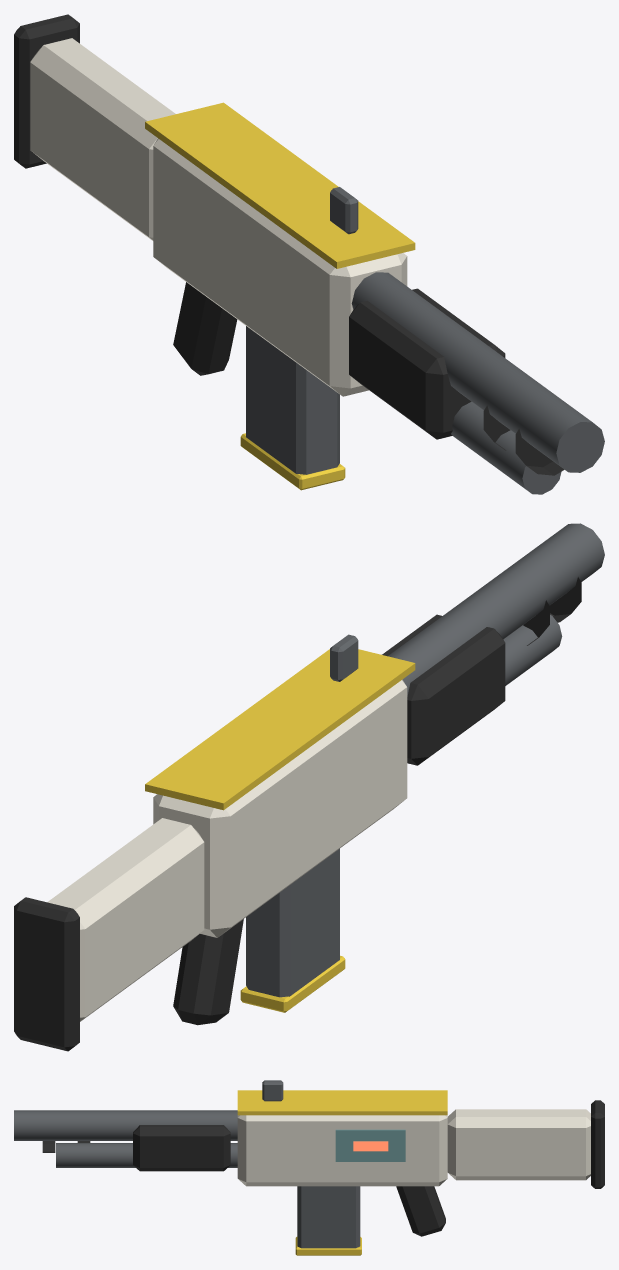
File: weapon_budget_shotgun.glb
3 renders of one model, top to bottom at view 1: azimuth 30°, elevation 25°; view 2: azimuth 150°, elevation 25°; view 3: azimuth 270°, elevation 25°, orthographic. The views are drawn at different scales.
Parts seen in each view (by area): view 1: weapon_budget_shotgun; view 2: weapon_budget_shotgun; view 3: weapon_budget_shotgun.
Part boxes in pixels (x1,y1,x2,y2): weapon_budget_shotgun: (14, 14, 604, 494); weapon_budget_shotgun: (14, 523, 604, 1051); weapon_budget_shotgun: (14, 1080, 604, 1255).
Bounding box in the file's own units: 0.074 × 0.266 × 0.845.
